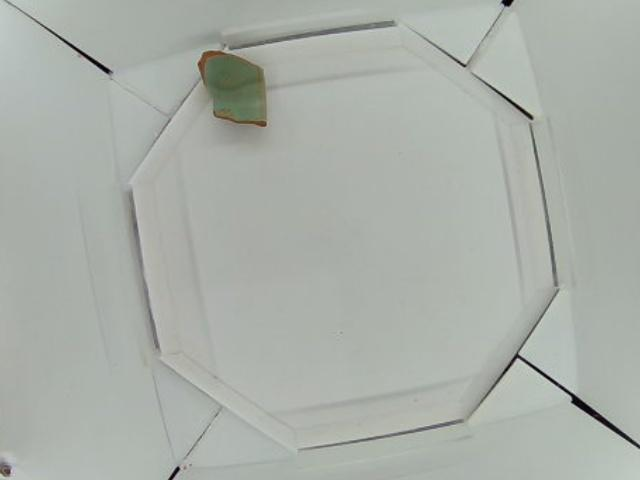China: (194, 50, 272, 131)
